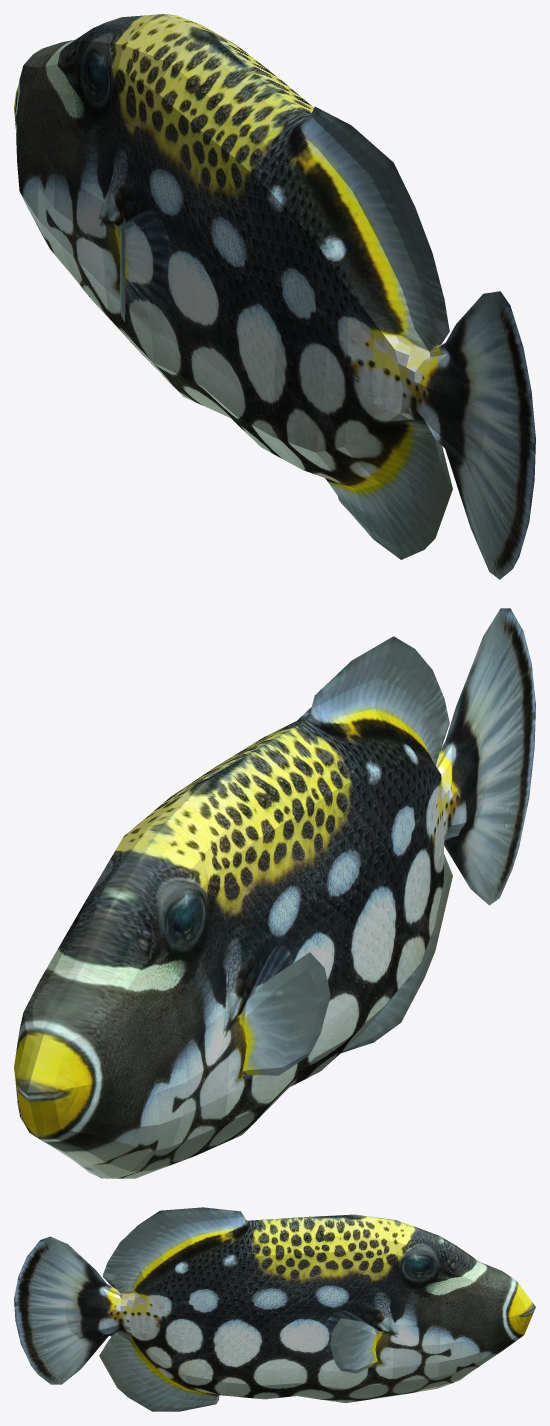
The model's file is balistoides-conspicillum.glb.
3 views of the same model, one above another, from view 1: azimuth 30°, elevation 25°; view 2: azimuth 150°, elevation 25°; view 3: azimuth 270°, elevation 25° (orthographic). The views are drawn at different scales.
Parts seen in each view (by area): view 1: clown triggerfish; view 2: clown triggerfish, pectoral.l; view 3: clown triggerfish, pectoral.r.
Part boxes in pixels (x1=…): clown triggerfish: x1=14, y1=14, x2=535, y2=579; clown triggerfish: x1=14, y1=608, x2=535, y2=1178; pectoral.l: x1=243, y1=952, x2=330, y2=1075; clown triggerfish: x1=14, y1=1207, x2=535, y2=1411; pectoral.r: x1=330, y1=1318, x2=377, y2=1373.
Bounding box in the file's own units: 1.07 × 1.98 × 4.59.
Materials: 1 (1 with a texture image).
